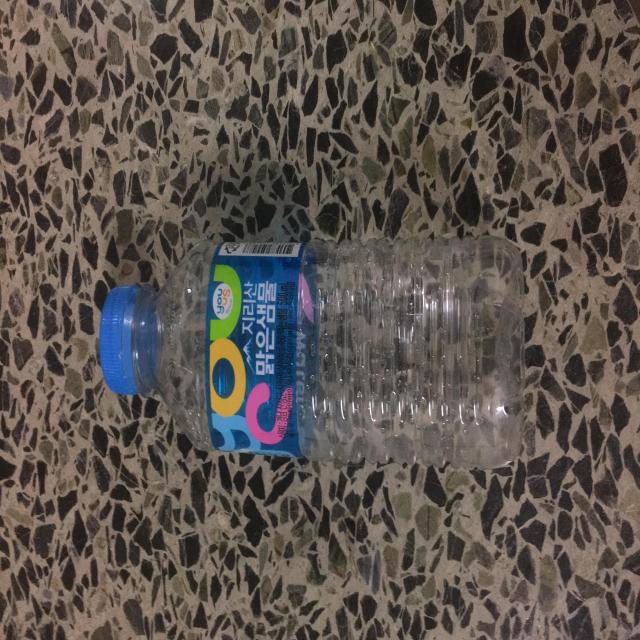bottle: (97, 233, 530, 476)
